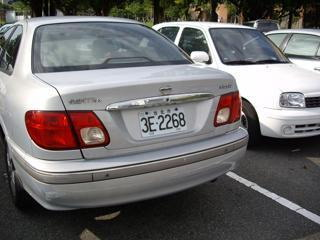plate: (136, 107, 188, 136)
